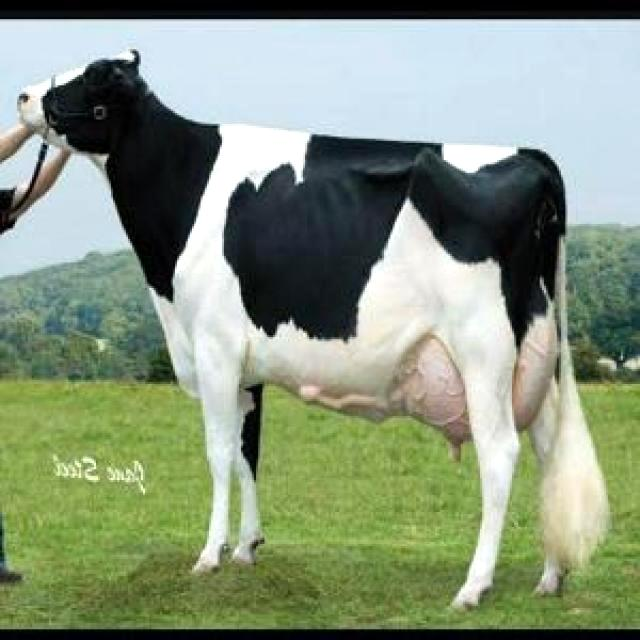COW: (20, 56, 608, 608)
